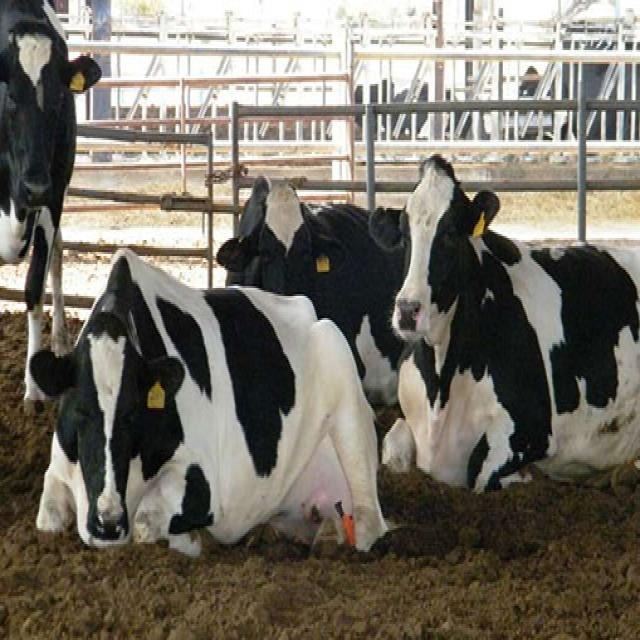cow: (53, 256, 423, 602), (400, 154, 640, 538), (206, 126, 497, 419), (5, 14, 115, 373)
